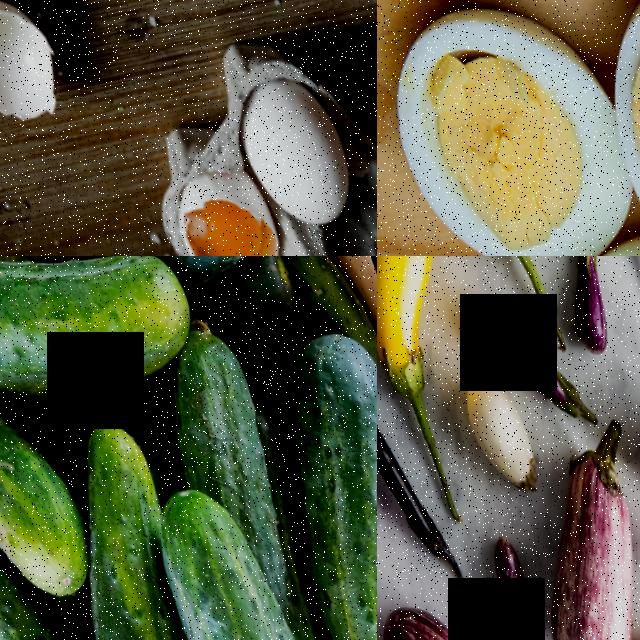cucumber: (129, 475, 353, 640), (244, 325, 377, 586), (0, 256, 211, 414), (147, 326, 286, 541), (0, 376, 94, 617), (48, 538, 210, 640), (143, 256, 336, 290)
egg_: (377, 0, 640, 256), (218, 71, 361, 235), (559, 0, 640, 256), (174, 193, 266, 256)
eggplant: (511, 429, 640, 640), (465, 284, 584, 433), (448, 368, 541, 503), (533, 256, 636, 361), (464, 531, 546, 640), (377, 593, 493, 640)
